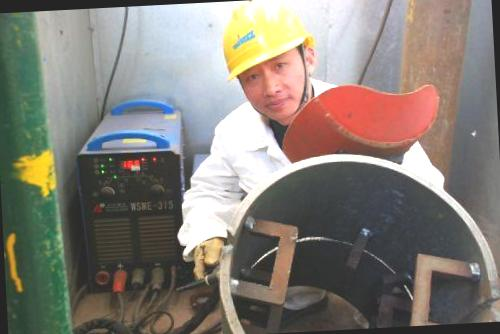person: (170, 0, 451, 284)
